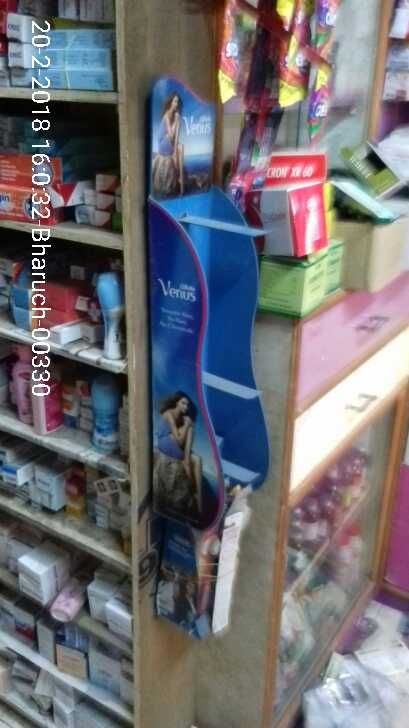reject: (104, 312, 191, 383)
